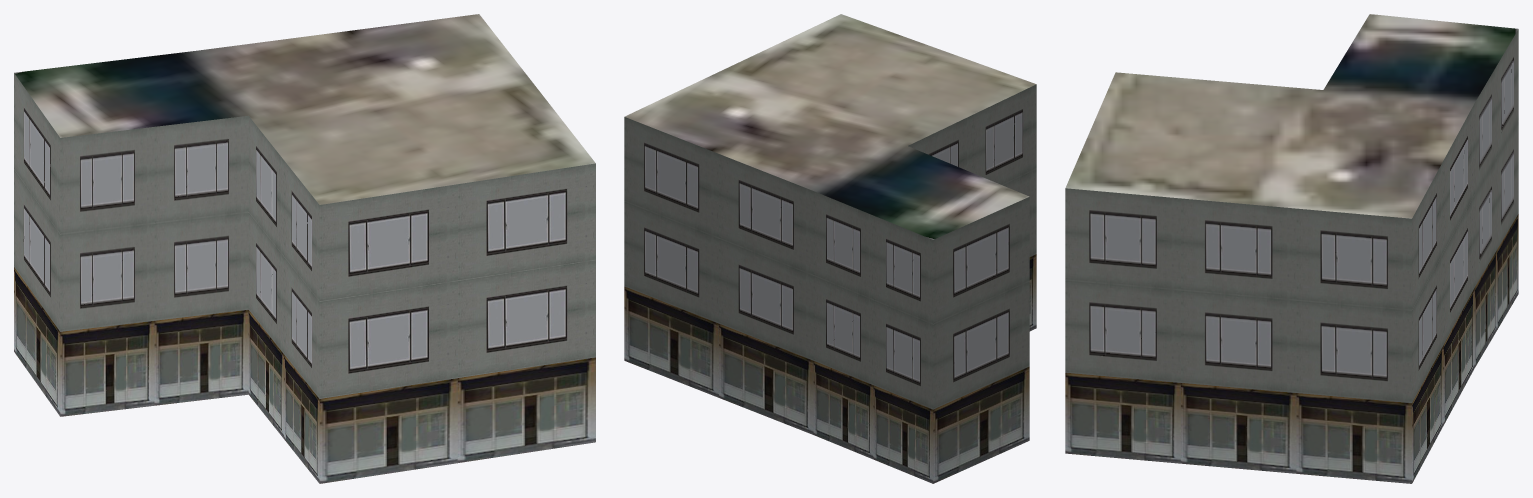
3 renders of one model, left to right at view 1: azimuth 30°, elevation 25°; view 2: azimuth 150°, elevation 25°; view 3: azimuth 270°, elevation 25°, orthographic. The views are drawn at different scales.
Visible parts, largest first — view 1: SketchUp (×9); view 2: SketchUp (×9); view 3: SketchUp (×7).
Boxes of the visible parts, left/top/right/bottom form: SketchUp (×9): left=14, top=14, right=595, bottom=483; SketchUp (×9): left=624, top=14, right=1036, bottom=483; SketchUp (×7): left=1065, top=14, right=1518, bottom=483.
Bounding box in the file's own units: 17.91 × 16.76 × 10.82.
3 materials, 3 textured.
